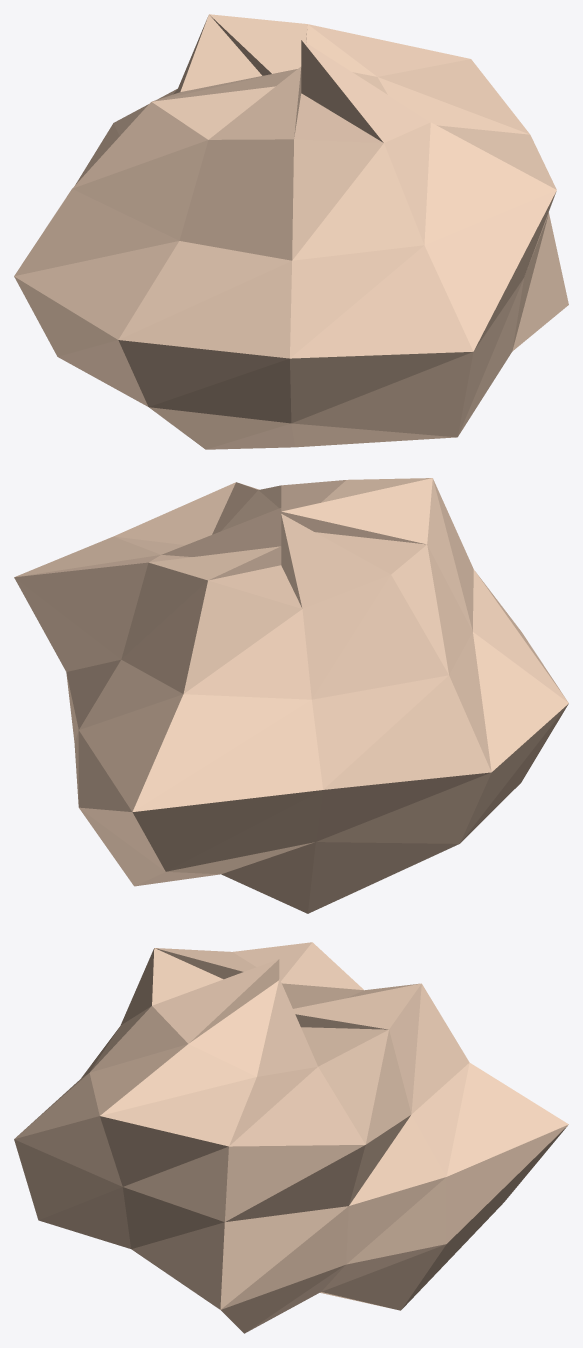
The model's file is rock_056.obj.
3 views of the same model, one above another, from view 1: azimuth 30°, elevation 25°; view 2: azimuth 150°, elevation 25°; view 3: azimuth 270°, elevation 25° (orthographic). The views are drawn at different scales.
Bounding box in the file's own units: 1.43 × 1.13 × 1.66.
